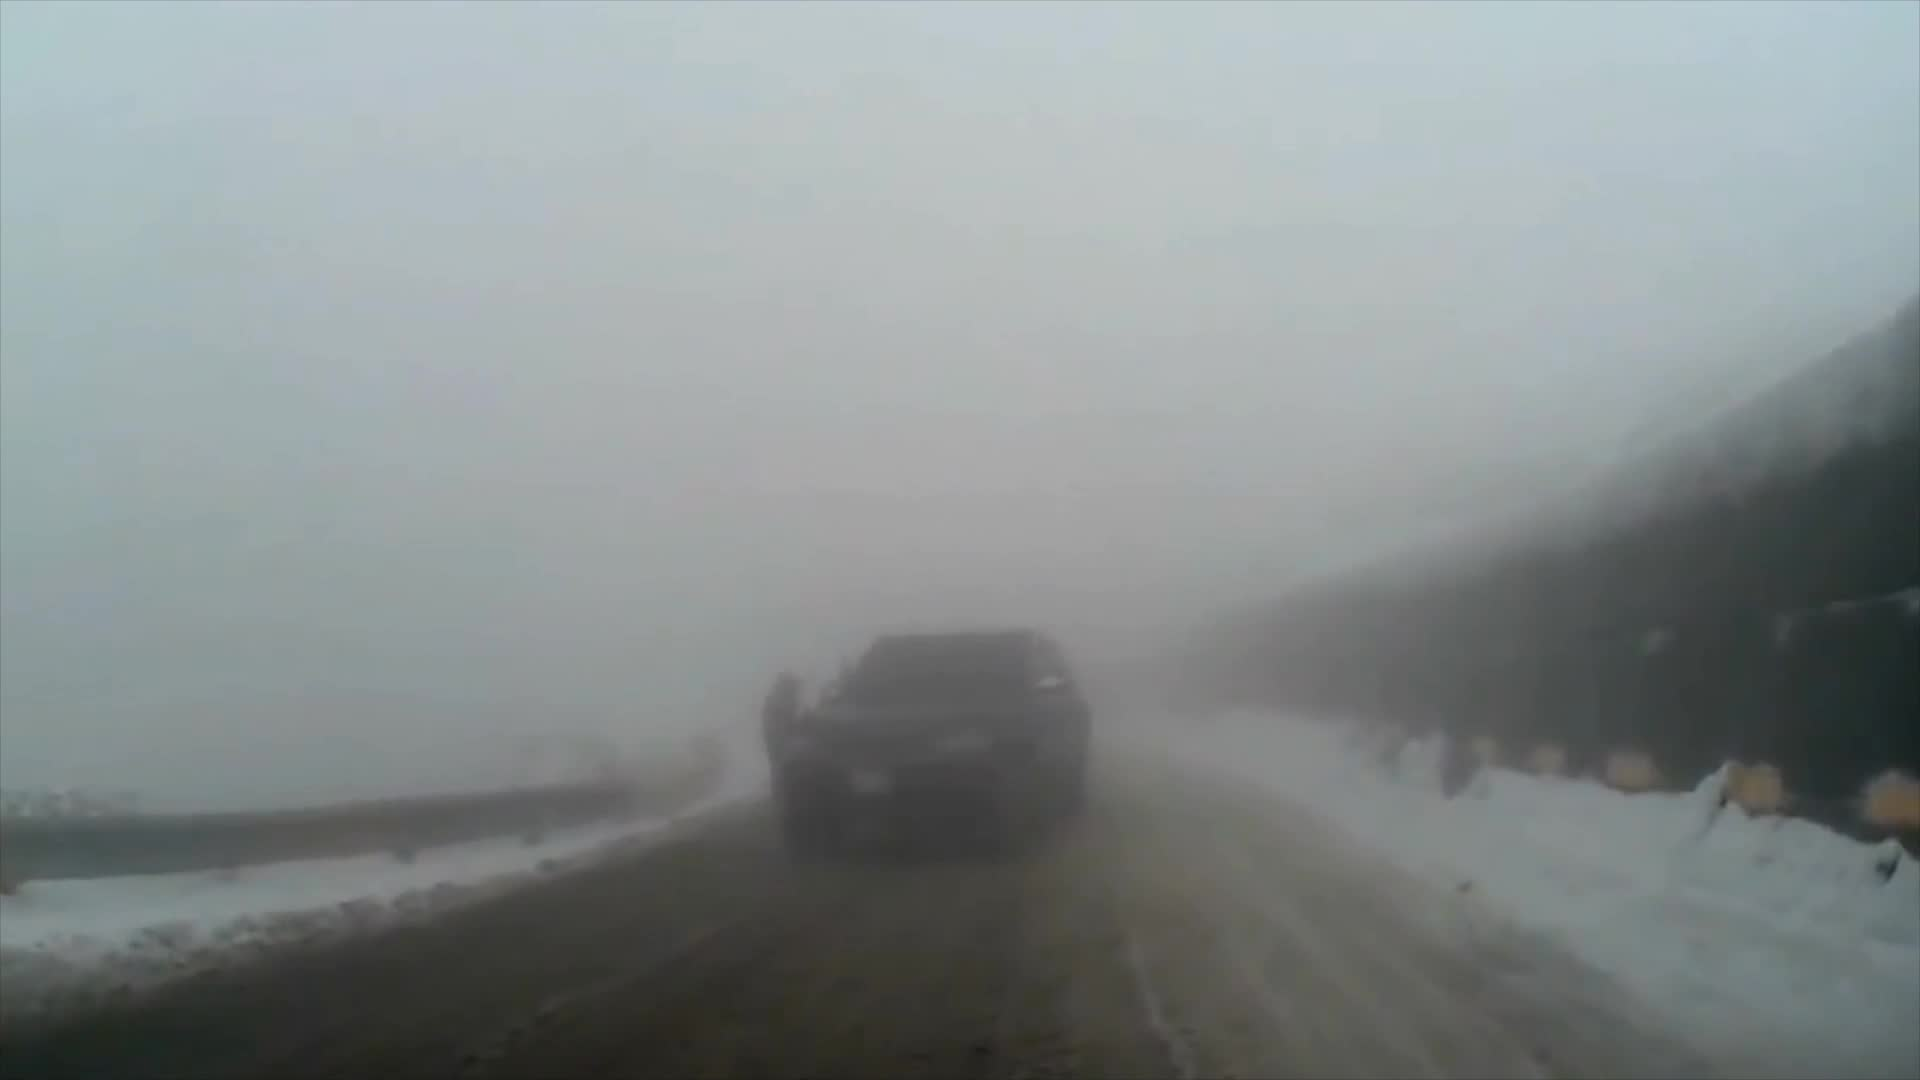pedestrian: (753, 663, 816, 811)
vehicle: (774, 630, 1093, 868)
